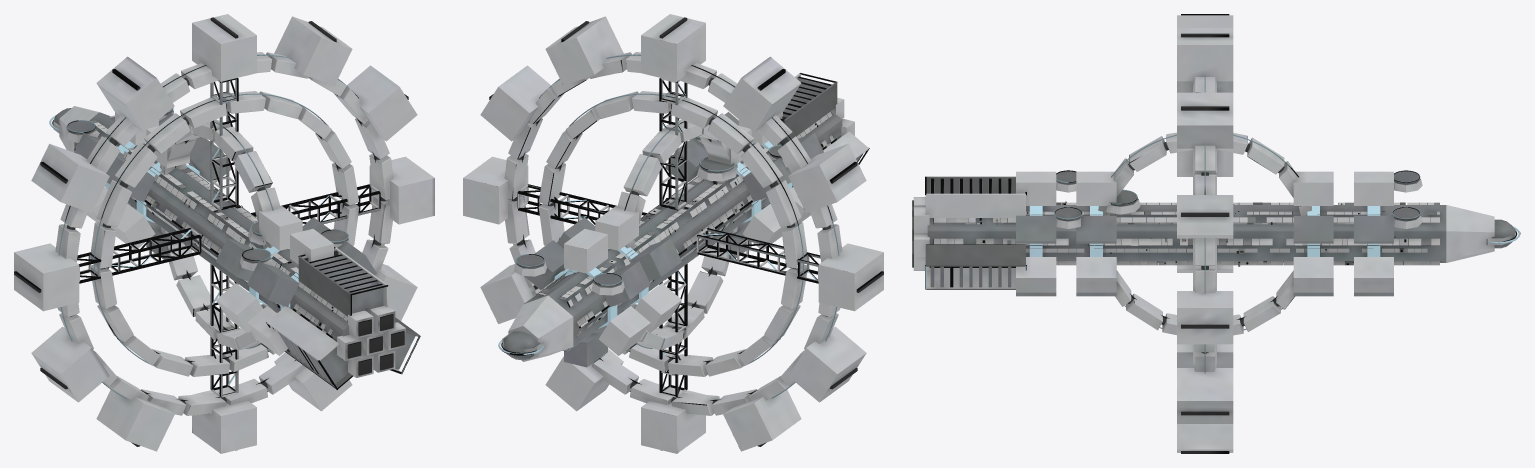
Rendered from consensus_hero.glb.
3 views of the same model, side by side, from view 1: azimuth 30°, elevation 25°; view 2: azimuth 150°, elevation 25°; view 3: azimuth 270°, elevation 25° (orthographic). The views are drawn at different scales.
Visible parts, largest first — view 1: HullBaked; view 2: HullBaked; view 3: HullBaked.
Part boxes in pixels (x1,y1,x2,y2): HullBaked: [14, 14, 434, 453]; HullBaked: [463, 14, 883, 453]; HullBaked: [912, 14, 1520, 453].
Size of the model in its own units: 731 by 731 by 1009.
1 material, 1 textured.
